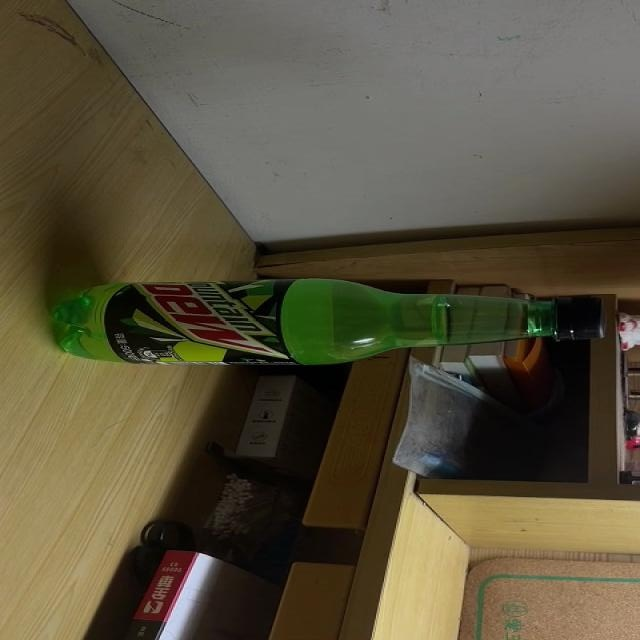Mountain-Dew: (53, 278, 612, 364)
